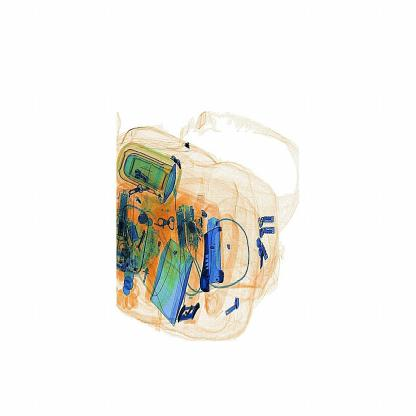pliers: (200, 215, 226, 290)
